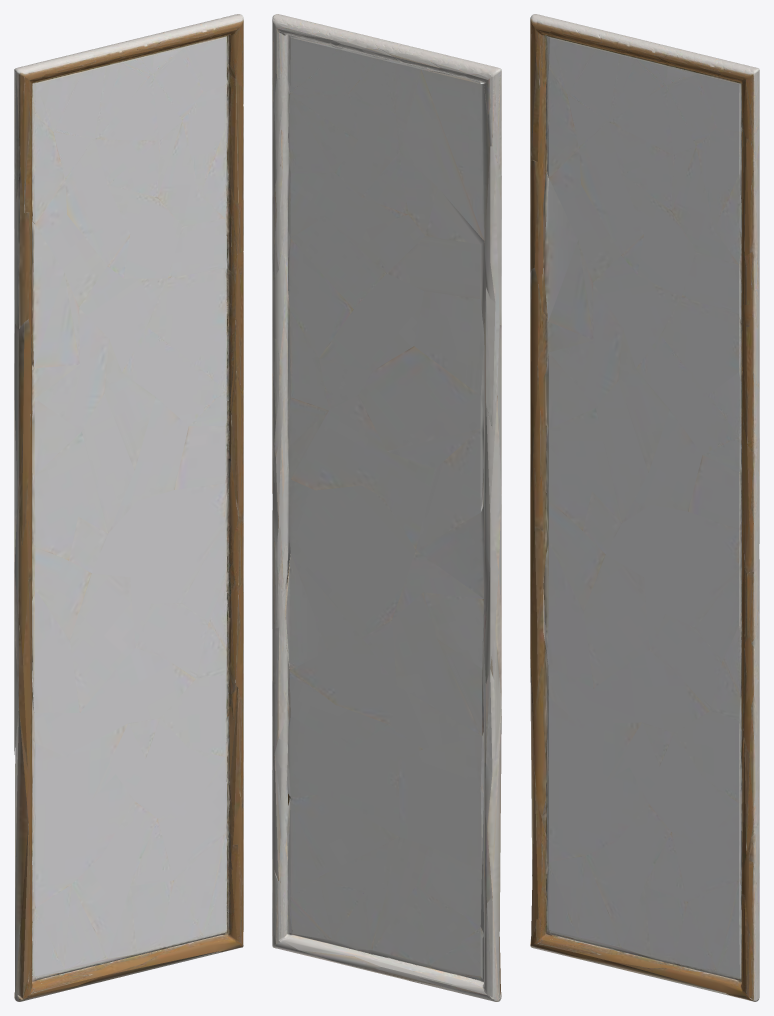
File: mirror-floor-bronze-leaning.glb
3 renders of one model, left to right at view 1: azimuth 30°, elevation 25°; view 2: azimuth 150°, elevation 25°; view 3: azimuth 330°, elevation 25°, orthographic.
Parts seen in each view (by area): view 1: mesh_node; view 2: mesh_node; view 3: mesh_node.
Part boxes in pixels (<box>): mesh_node: <box>14,14,243,1001</box>; mesh_node: <box>272,14,501,1001</box>; mesh_node: <box>530,14,759,1001</box>.
Bounding box in the file's own units: 0.4843 × 1.9 × 0.0367.
Materials: 1 (1 with a texture image).
